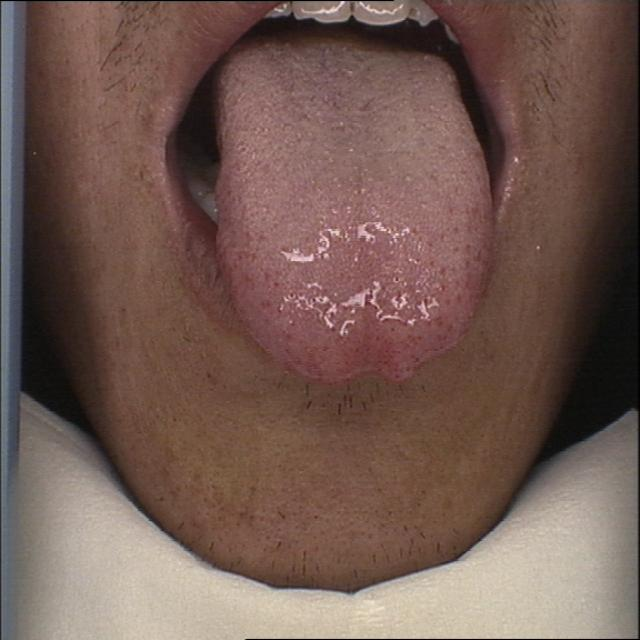tongue: (213, 34, 494, 397)
